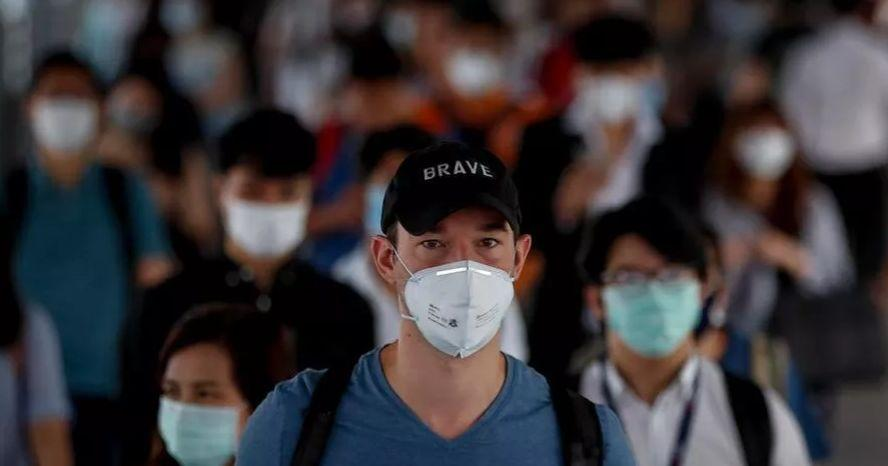mask: (395, 202, 533, 369), (604, 240, 714, 362)
